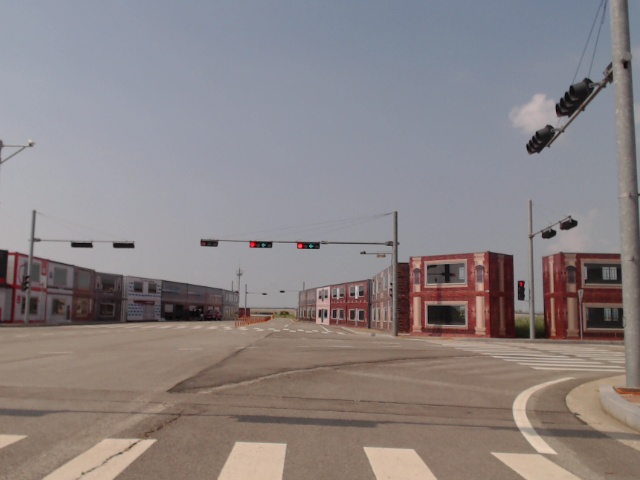left_green_4: (297, 242, 320, 249), (250, 242, 272, 248)
